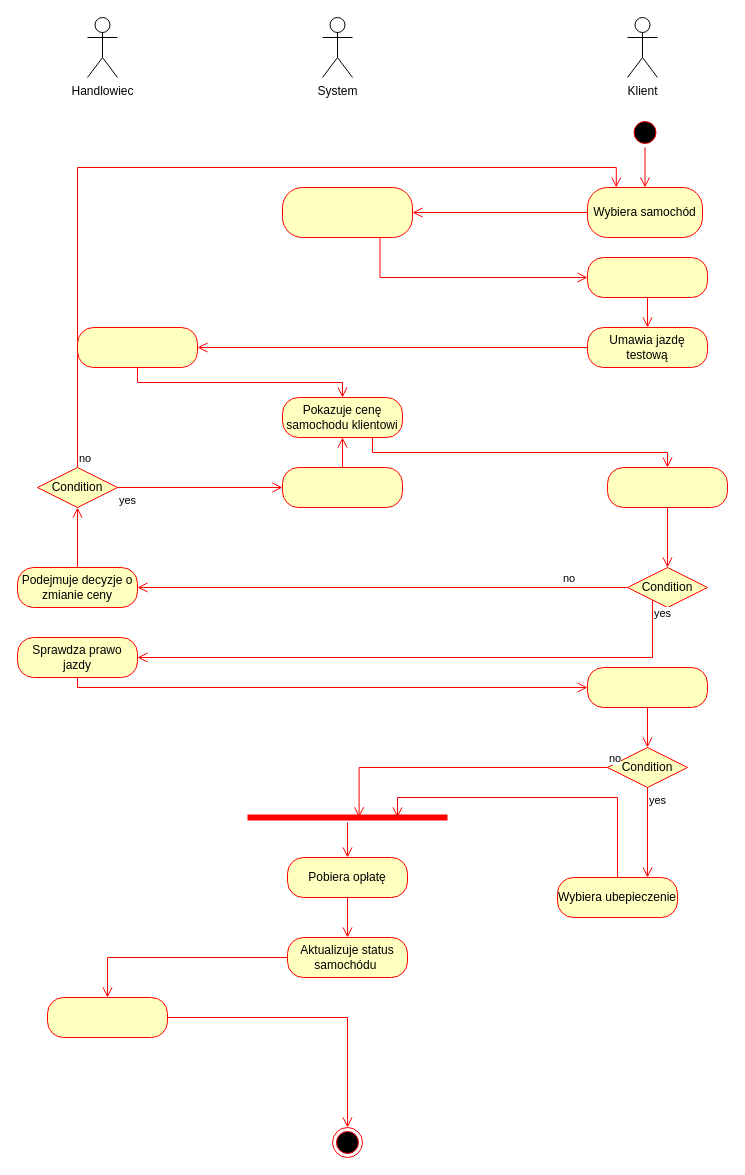
The diagram is 745 pixels wide and 1175 high, and some of its shapes have lost their labels. Each missing label, with the centre of its shape:
"Aktualizuje cenę" goes at [342,487].
"Obsługuje klienta" goes at [137,347].
"Podejmuje decyzje" goes at [667,487].
"Podejmuje decyzje czy chce ubezpieczenie" goes at [647,687].
"Przekazuje kluczyki oraz fakturę" goes at [107,1017].
"Rezerwuje samochód" goes at [647,277].
"Sprawdza dostępność" goes at [347,212].
